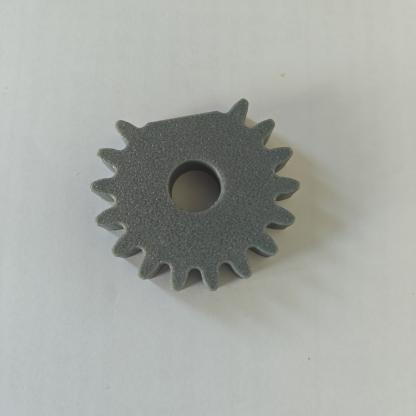defect: (119, 76, 263, 153)
gear: (81, 67, 332, 313)
